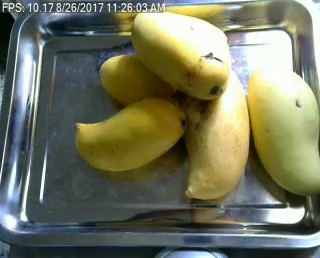Mango: (176, 63, 250, 197), (245, 67, 320, 193), (131, 10, 229, 98), (74, 98, 185, 170), (99, 54, 178, 105)
